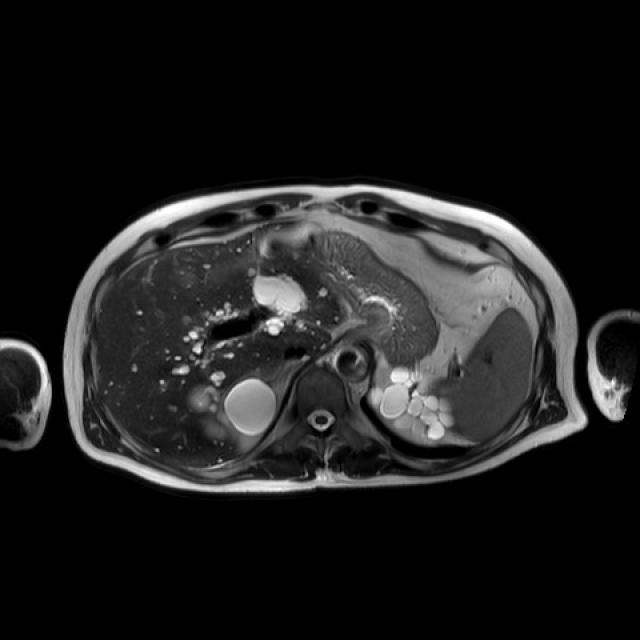sag: (182, 376, 277, 453)
sol: (368, 366, 456, 445)
